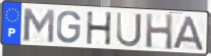A: (171, 15, 206, 52)
G: (55, 9, 82, 45)
H: (144, 12, 174, 52), (86, 11, 114, 47)
M: (22, 7, 56, 45)
U: (115, 11, 143, 49)
